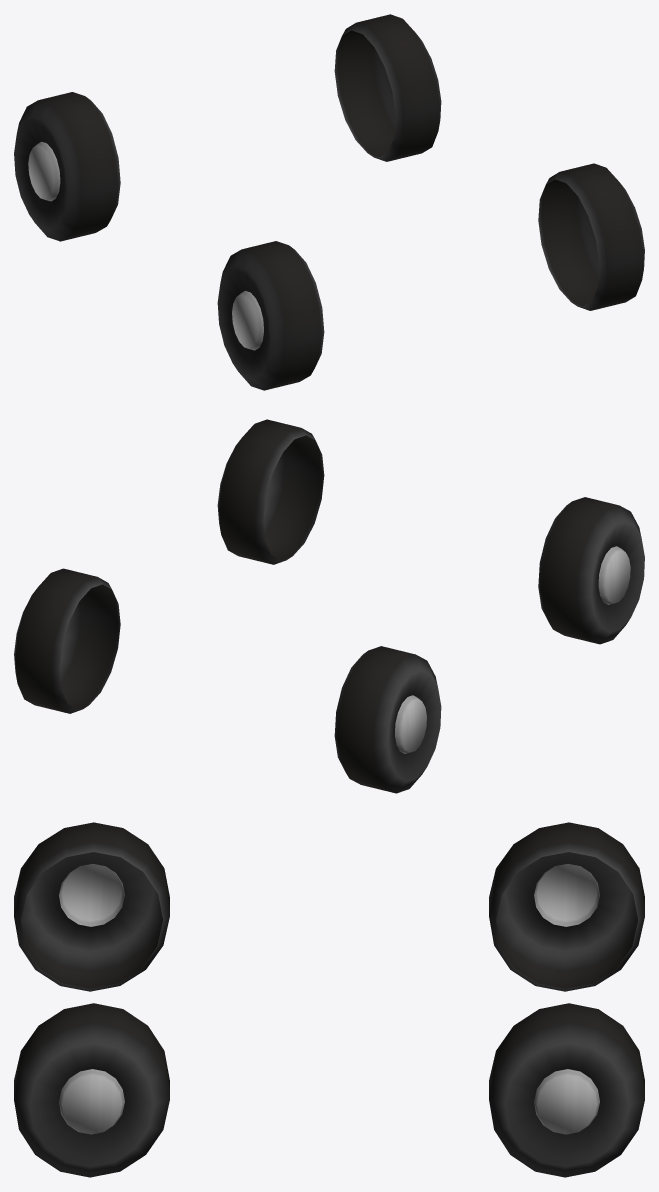
The model's file is car_wheel.fbx.
3 renders of one model, top to bottom at view 1: azimuth 30°, elevation 25°; view 2: azimuth 150°, elevation 25°; view 3: azimuth 270°, elevation 25°, orthographic. The views are drawn at different scales.
Parts seen in each view (by area): view 1: car_wheel; view 2: car_wheel; view 3: car_wheel.
Boxes of the visible parts, left/top/right/bottom form: car_wheel: left=14, top=14, right=644, bottom=390; car_wheel: left=14, top=419, right=644, bottom=793; car_wheel: left=14, top=822, right=644, bottom=1177.
Size of the model in its own units: 70.39 by 23.16 by 87.19.
